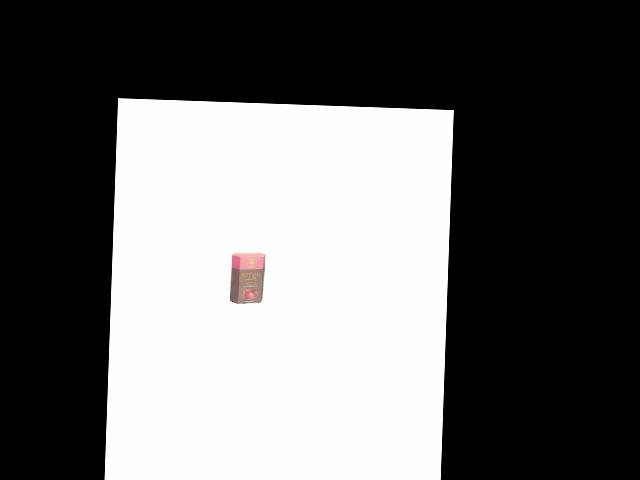chocolate: (228, 249, 266, 309)
